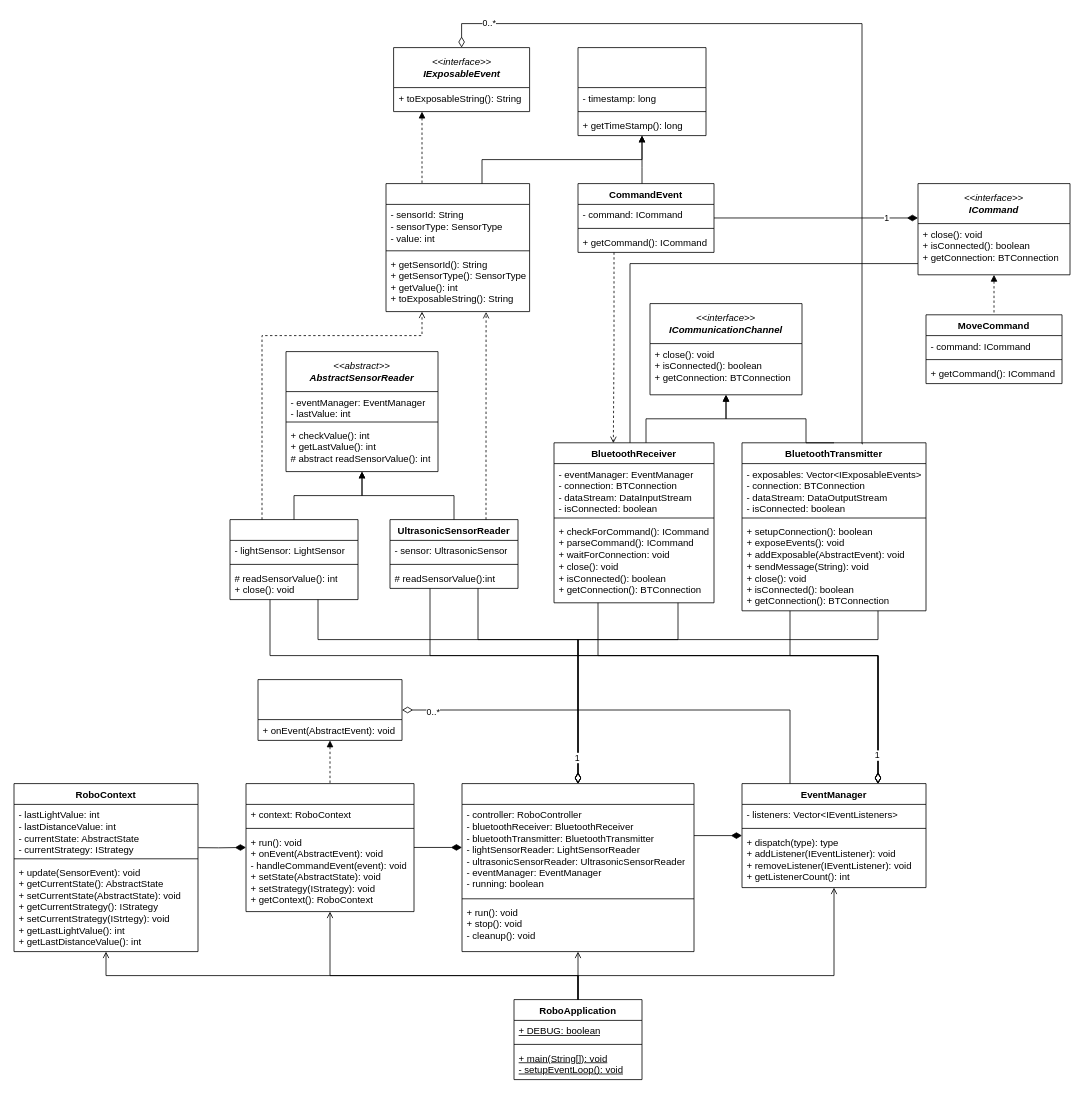
Some shapes in this 1084 by 1096 pixel diagram are drawn without their labels. Here are the shapes that lost their labels. From the top down, the box of each, then its label:
(577, 47, 706, 136): <<abstract>> AbstractEvent
(385, 183, 530, 312): SensorEvent
(229, 519, 358, 600): LightSensorReader
(257, 679, 402, 740): <<interface>> IEventListener
(245, 783, 414, 912): RoboController
(461, 783, 694, 952): EventLoop
